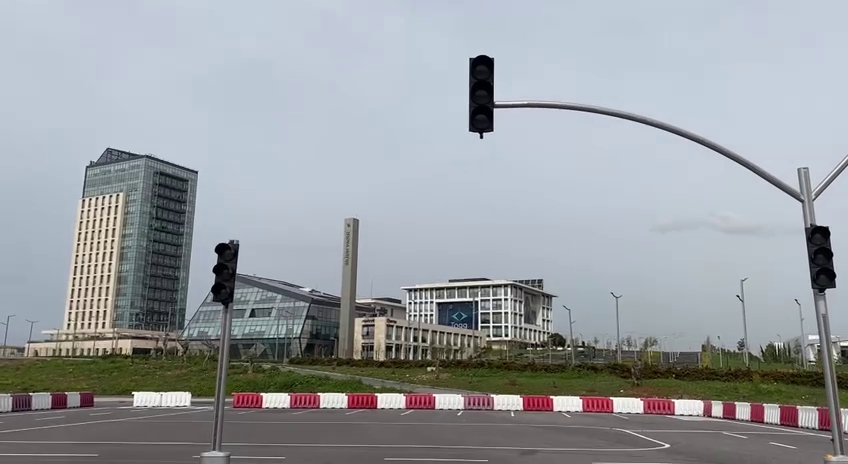trafficLight: (464, 49, 500, 142), (801, 220, 842, 294), (209, 236, 241, 309)
